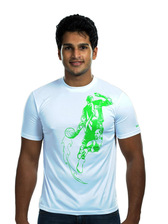clothoes: (13, 75, 145, 215)
